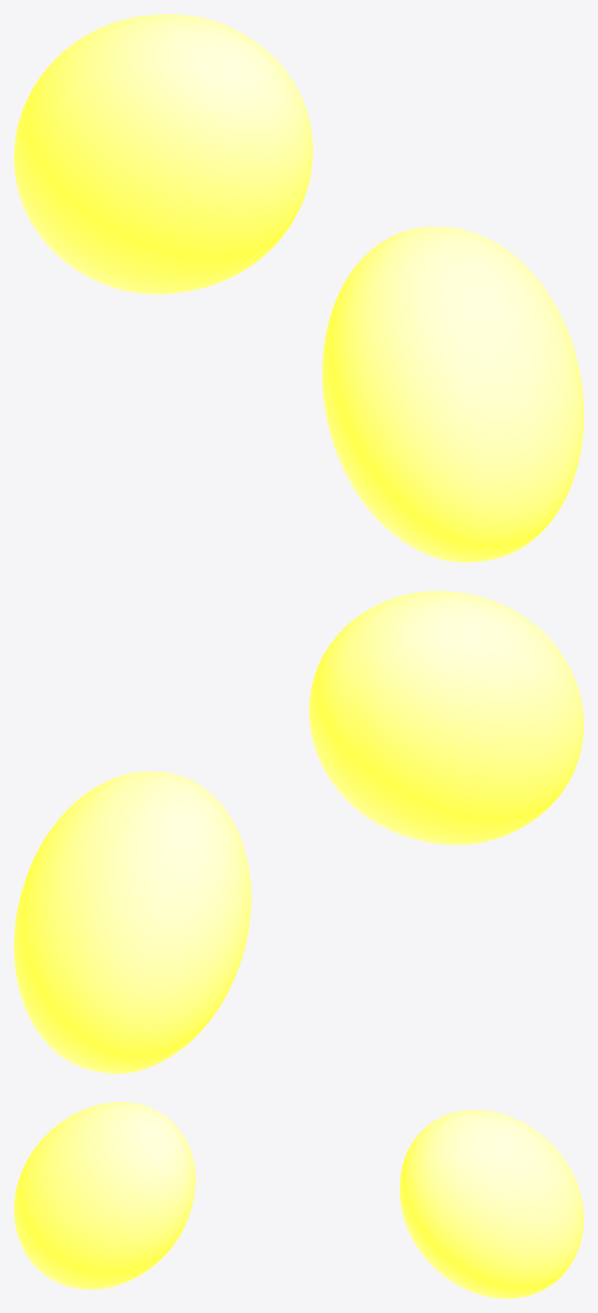
Rendered from eyeballs.fbx.
3 renders of one model, top to bottom at view 1: azimuth 30°, elevation 25°; view 2: azimuth 150°, elevation 25°; view 3: azimuth 270°, elevation 25°, orthographic. The views are drawn at different scales.
Parts seen in each view (by area): view 1: eyeballs; view 2: eyeballs; view 3: eyeballs.
Boxes of the visible parts, <box> form: eyeballs: <box>14,14,583,562</box>; eyeballs: <box>14,591,583,1073</box>; eyeballs: <box>14,1102,583,1298</box>.
Size of the model in its own units: 0.0588 by 0.06 by 0.1798.
